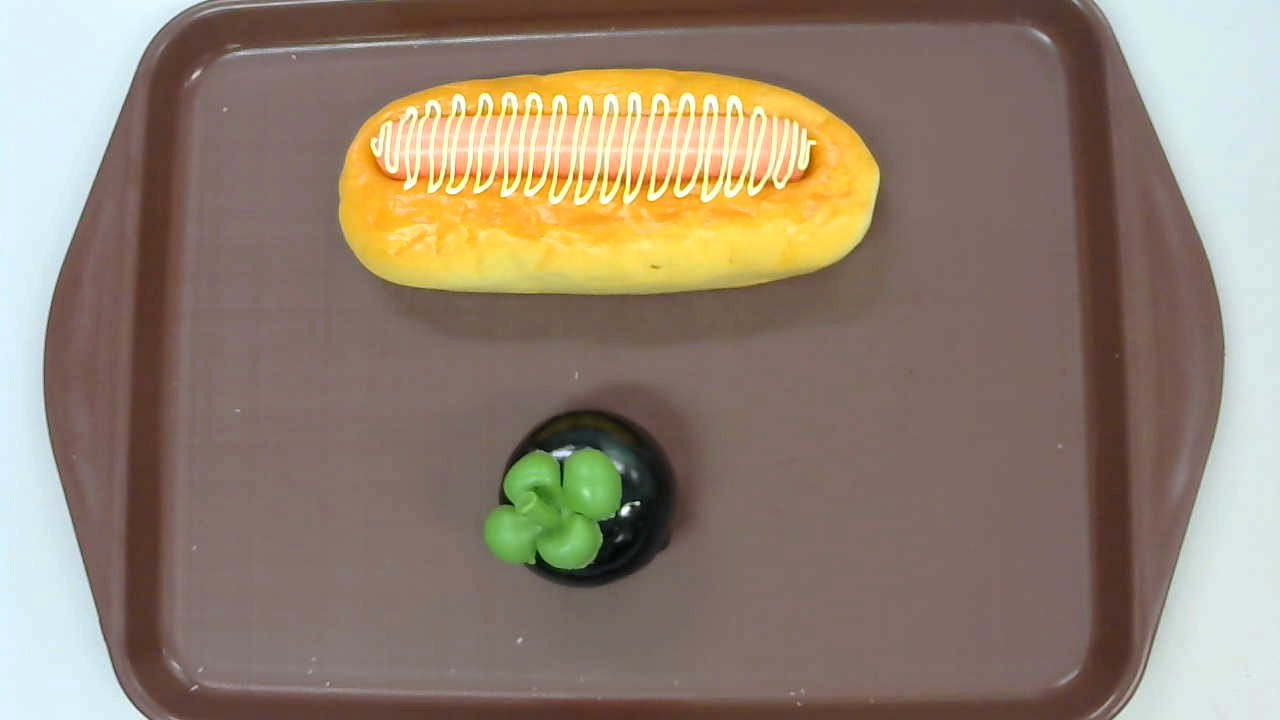hot dog: (338, 66, 879, 296)
mangosteen: (483, 410, 676, 588)
